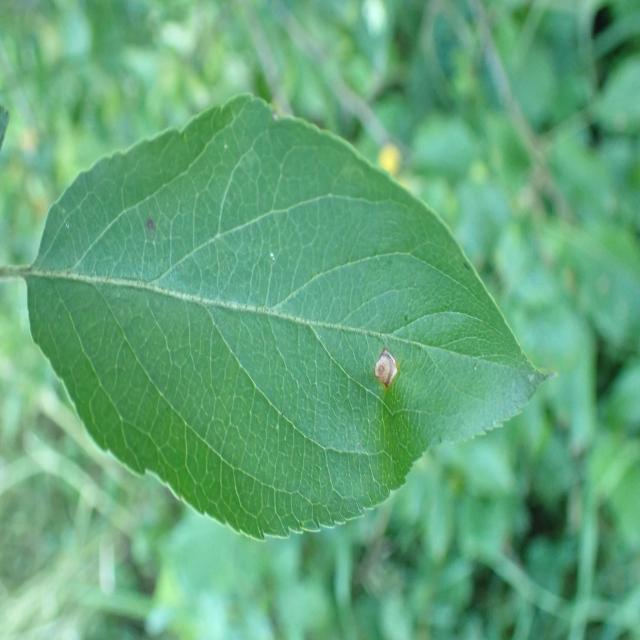frog-eye-leaf-spot: (25, 95, 558, 543)
